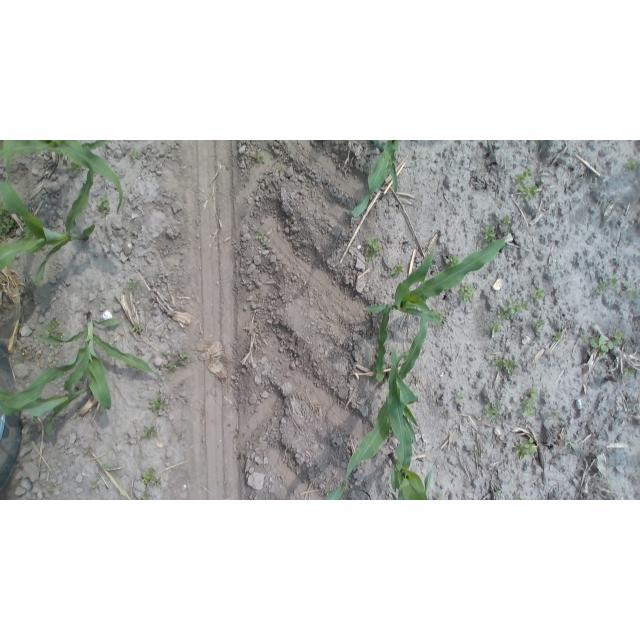Maize: (360, 223, 512, 385), (318, 310, 430, 500), (0, 308, 164, 415), (0, 158, 100, 289), (0, 140, 126, 216), (2, 342, 101, 433), (388, 352, 448, 501), (342, 140, 407, 222)
Weeds: (361, 235, 385, 264), (513, 436, 542, 459), (587, 334, 614, 357), (493, 355, 521, 377), (46, 318, 69, 344), (520, 387, 539, 417), (496, 299, 520, 321), (141, 467, 163, 489), (517, 181, 538, 203), (458, 284, 478, 306), (0, 208, 16, 235), (481, 402, 502, 421), (620, 281, 640, 300), (95, 196, 113, 216), (139, 425, 162, 440), (481, 226, 499, 245), (513, 168, 535, 183), (254, 225, 269, 246), (70, 160, 87, 177), (444, 252, 462, 268), (149, 397, 168, 412), (562, 437, 579, 453), (391, 261, 406, 278), (454, 388, 468, 406), (433, 305, 448, 321), (126, 277, 142, 292), (489, 321, 503, 337), (371, 369, 387, 383), (532, 288, 546, 303), (613, 329, 626, 345), (48, 481, 61, 497), (139, 489, 157, 500), (21, 225, 35, 239), (621, 365, 635, 379), (624, 158, 638, 171), (533, 318, 546, 332), (175, 350, 189, 363), (608, 275, 622, 287), (577, 330, 588, 345), (550, 330, 562, 343), (520, 300, 532, 313), (471, 447, 483, 460), (131, 323, 143, 336), (88, 479, 102, 490), (127, 150, 138, 162), (166, 362, 179, 372), (256, 149, 265, 163), (322, 489, 333, 500), (549, 408, 561, 418), (275, 164, 288, 173), (598, 283, 609, 293), (502, 217, 512, 228), (307, 177, 316, 189), (511, 492, 523, 500), (493, 489, 503, 498), (436, 490, 447, 498), (532, 141, 544, 148)
